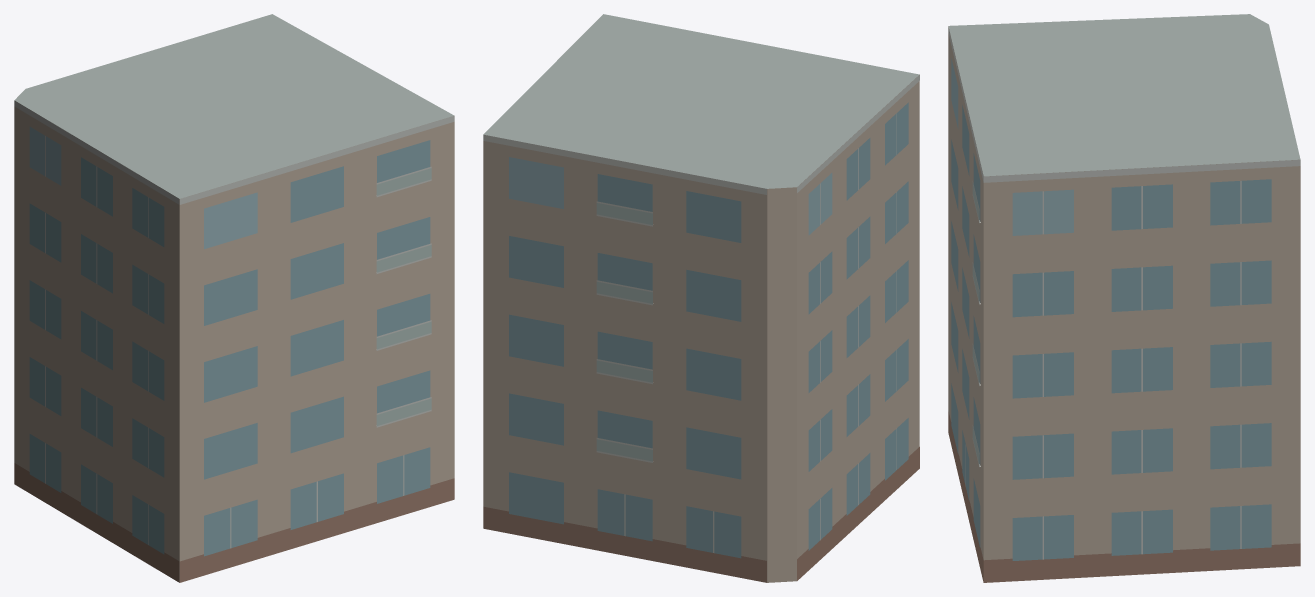
Rendered from survey-upis-32971306.glb.
3 renders of one model, left to right at view 1: azimuth 30°, elevation 25°; view 2: azimuth 150°, elevation 25°; view 3: azimuth 270°, elevation 25°, orthographic. The views are drawn at different scales.
Visible parts, largest first — view 1: survey-upis-32971306.tmp; view 2: survey-upis-32971306.tmp; view 3: survey-upis-32971306.tmp.
Boxes of the visible parts, bbox=[...] form: survey-upis-32971306.tmp: bbox=[14, 14, 454, 582]; survey-upis-32971306.tmp: bbox=[483, 14, 919, 582]; survey-upis-32971306.tmp: bbox=[948, 14, 1300, 582].
Size of the model in its own units: 13.26 by 15.46 by 12.15.
